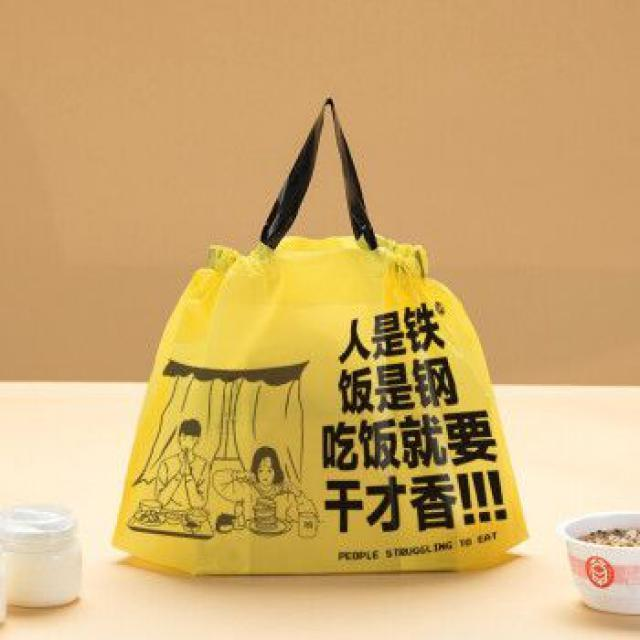waste: (128, 224, 516, 566)
